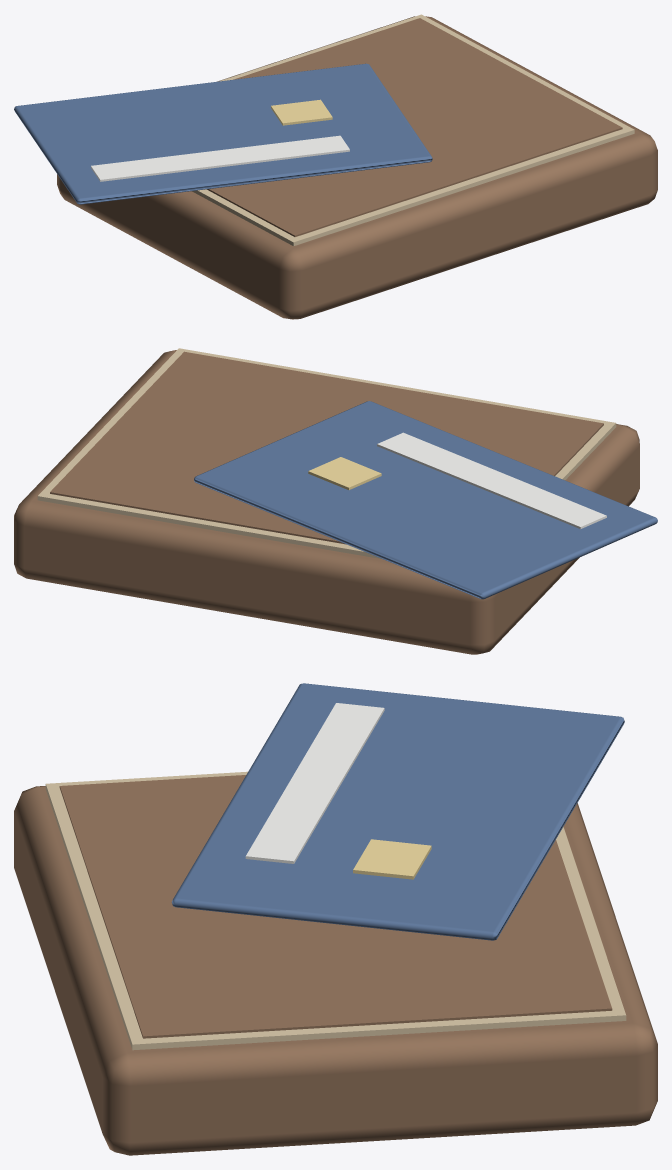
Rendered from escena.casa.billetera_tarjeta.fbx.
3 renders of one model, top to bottom at view 1: azimuth 30°, elevation 25°; view 2: azimuth 150°, elevation 25°; view 3: azimuth 270°, elevation 25°, orthographic. The views are drawn at different scales.
Parts seen in each view (by area): view 1: Billetera, Tarjeta de débito, Tapa, Costura, Franja, Chip; view 2: Billetera, Tarjeta de débito, Tapa, Costura, Franja, Chip; view 3: Billetera, Tapa, Tarjeta de débito, Costura, Franja, Chip.
Part boxes in pixels (bbox=[...]): Billetera: bbox=[57, 16, 657, 319]; Tarjeta de débito: bbox=[14, 63, 432, 204]; Tapa: bbox=[207, 18, 622, 236]; Costura: bbox=[192, 14, 634, 246]; Franja: bbox=[91, 135, 349, 181]; Chip: bbox=[271, 99, 332, 125]; Billetera: bbox=[14, 350, 639, 654]; Tarjeta de débito: bbox=[194, 401, 657, 599]; Tapa: bbox=[50, 351, 603, 544]; Costura: bbox=[37, 348, 616, 559]; Franja: bbox=[377, 432, 606, 529]; Chip: bbox=[308, 457, 381, 489]; Billetera: bbox=[14, 786, 657, 1155]; Tapa: bbox=[59, 775, 612, 1038]; Tarjeta de débito: bbox=[171, 683, 624, 940]; Costura: bbox=[45, 771, 626, 1050]; Franja: bbox=[245, 703, 384, 863]; Chip: bbox=[353, 839, 431, 879].
Bounding box in the file's own units: 0.138 × 0.0219 × 0.1033.
